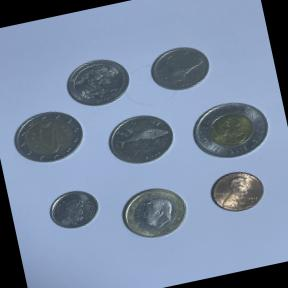coin: (182, 90, 278, 170), (110, 176, 198, 250), (6, 102, 89, 171), (100, 106, 181, 175), (59, 50, 136, 113), (200, 161, 273, 222), (42, 182, 108, 239)
